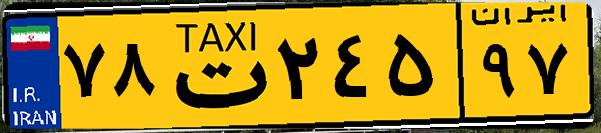2: (270, 28, 330, 110)
4: (330, 28, 385, 110)
5: (385, 28, 445, 110)
7: (57, 26, 110, 100), (525, 38, 570, 115)
8: (110, 28, 158, 98)
9: (475, 38, 525, 113)
ت: (158, 12, 270, 120)
